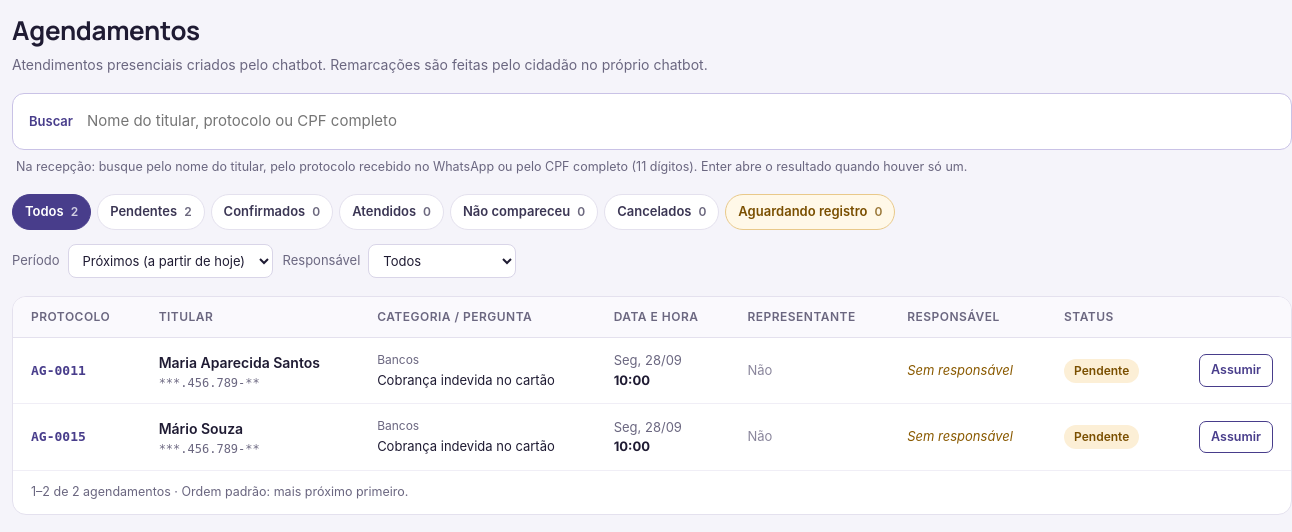
Scenario: Appointments.page: busca › Limpar apaga a busca
The width and height of the screenshot is (1292, 532).
Expected: the text "Maria Aparecida Santos" is shown, [159,352,341,372]
In the search field labelled "Buscar": x=684, y=121 [83,100,1285,142], type "Maria"
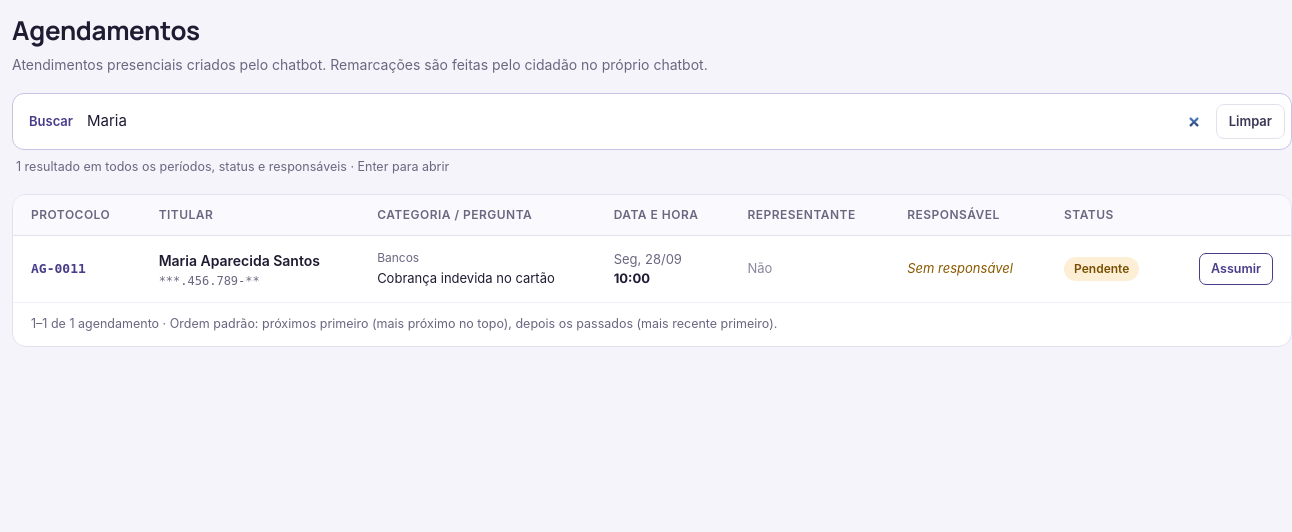
Expected: the text "1 resultado" is shown, [16,158,449,174]
Click the button "Limpar": x=1250, y=121 [1216,104,1285,139]
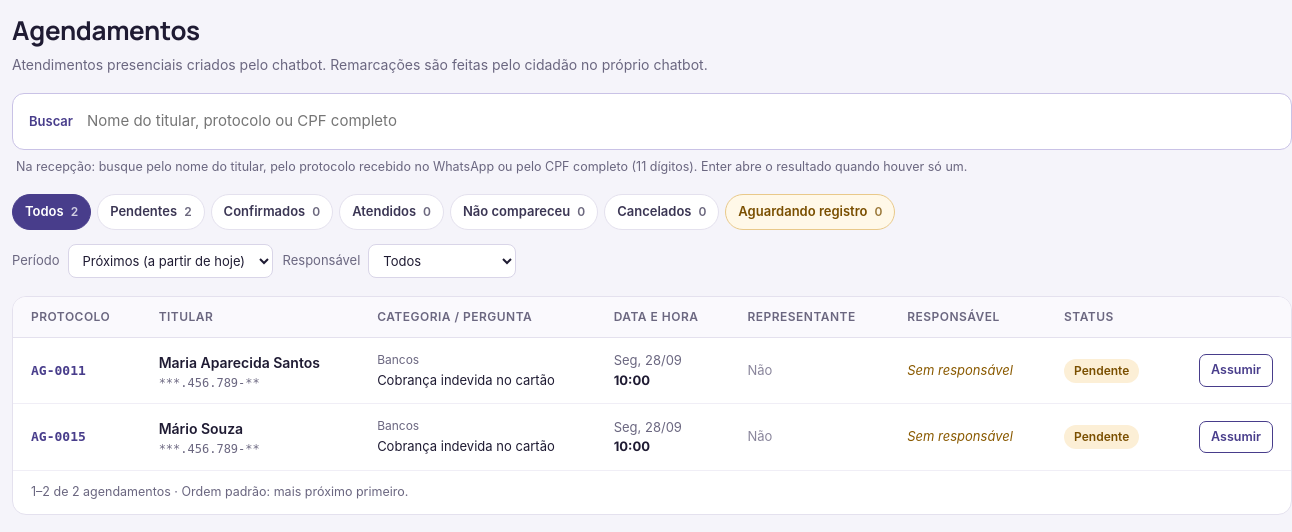
Expected: the search field labelled "Buscar" is empty, [83,100,1285,142]
Expected: the button "Limpar" is gone
Expected: the text "Na recepção: busque pelo nome do titular, pelo protocolo recebido no WhatsApp ou pelo CPF completo (11 dígitos). Enter a" is shown, [16,158,967,174]
